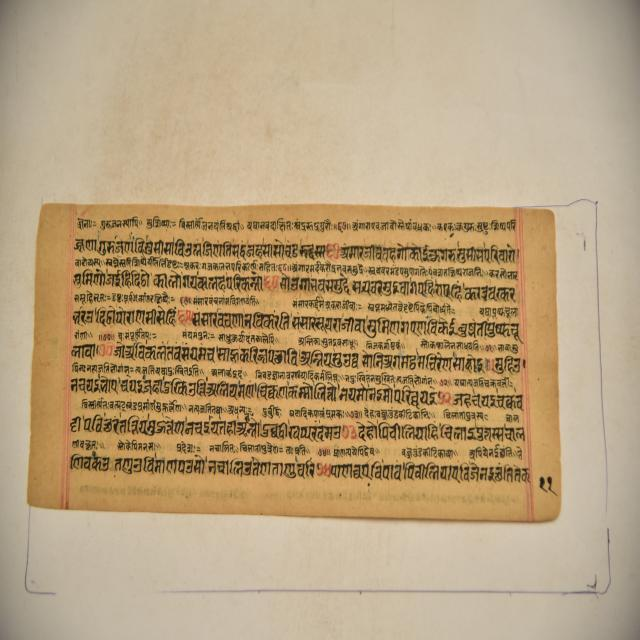text_paragraph: (23, 203, 560, 524)
